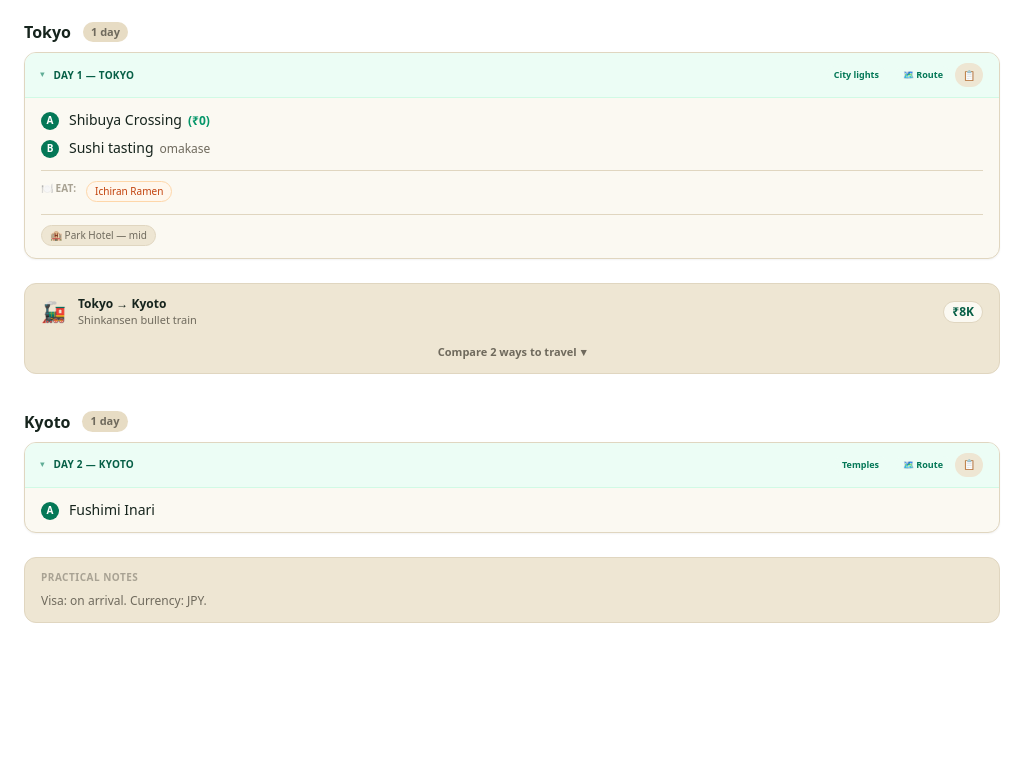
it: ItineraryView › expands a transport mode comparison when the connection carries modes
Click the button "Compare 2 ways to travel ▾" at (512, 356), box [25,340,999,372]
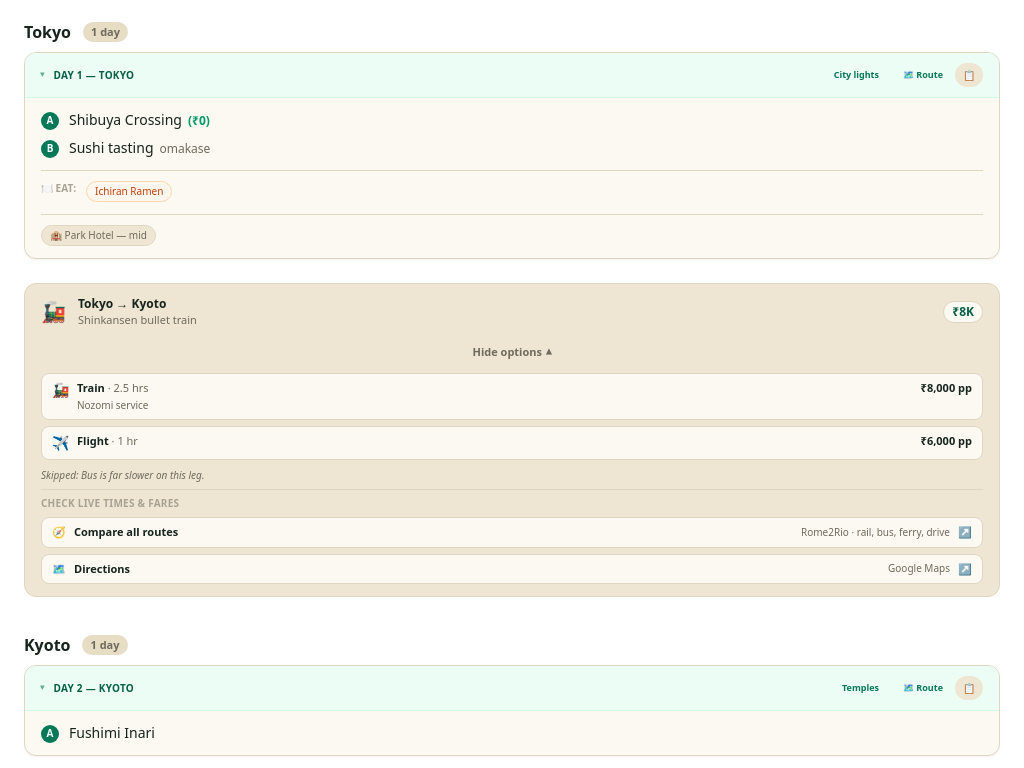
Expected: the button named "Compare 2 ways to travel" is expanded, [25,340,999,372]
Expected: the text "Train" is shown, [77,380,105,394]
Expected: the text "Flight" is shown, [77,433,109,448]
